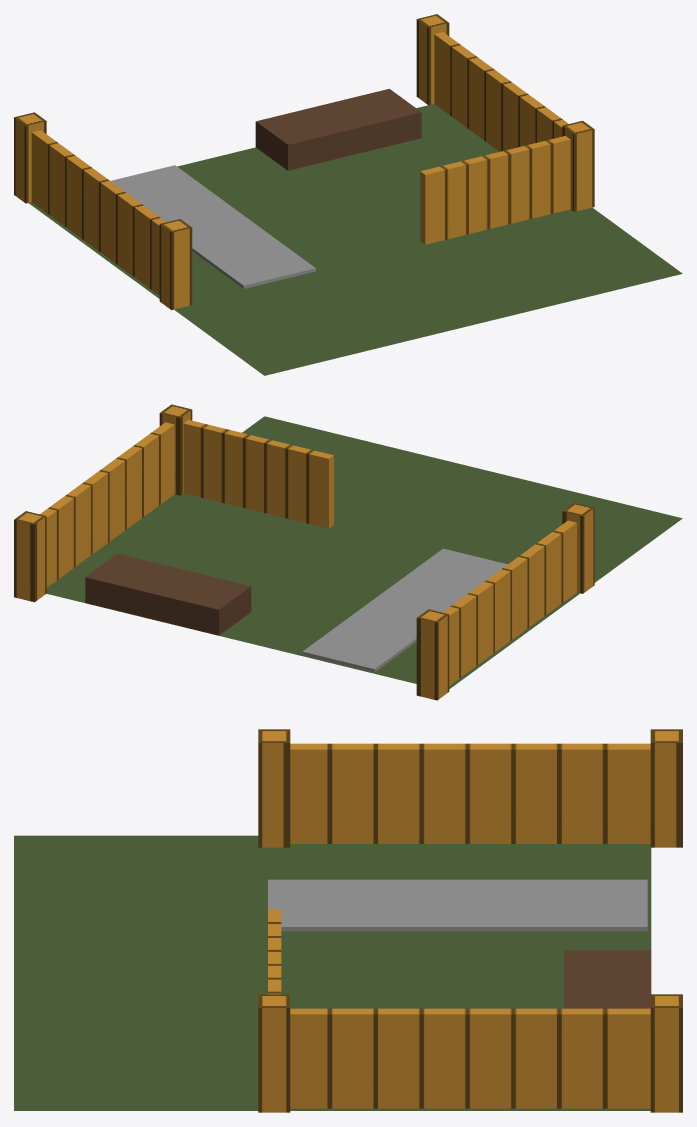
File: Frontyard.002.fbx
The picture shows the model from 3 angles, top to bottom: view 1: azimuth 30°, elevation 25°; view 2: azimuth 150°, elevation 25°; view 3: azimuth 270°, elevation 25°; orthographic projection. The views are drawn at different scales.
Visible parts, largest first — view 1: Plane.011, Cube.090, Cube.088, Plane.010, Plane.007; view 2: Plane.011, Cube.090, Cube.088, Plane.010, Plane.007; view 3: Plane.011, Cube.090, Plane.010, Plane.007, Cube.088.
Boxes of the visible parts, x1,y1,x2,y2 form: Plane.011: (28,104,682,375); Cube.090: (14,14,594,310); Cube.088: (420,136,570,244); Plane.010: (111,165,315,288); Plane.007: (255,88,421,170); Plane.011: (46,416,682,688); Cube.090: (14,404,594,700); Cube.088: (183,420,333,528); Plane.010: (302,548,507,672); Plane.007: (85,553,251,635); Plane.011: (14,835,651,1110); Cube.090: (258,729,682,1112); Plane.010: (268,879,647,931); Plane.007: (564,950,651,1008); Cube.088: (268,909,281,994).
Bounding box in the file's own units: 4.56 × 0.7981 × 4.63.
